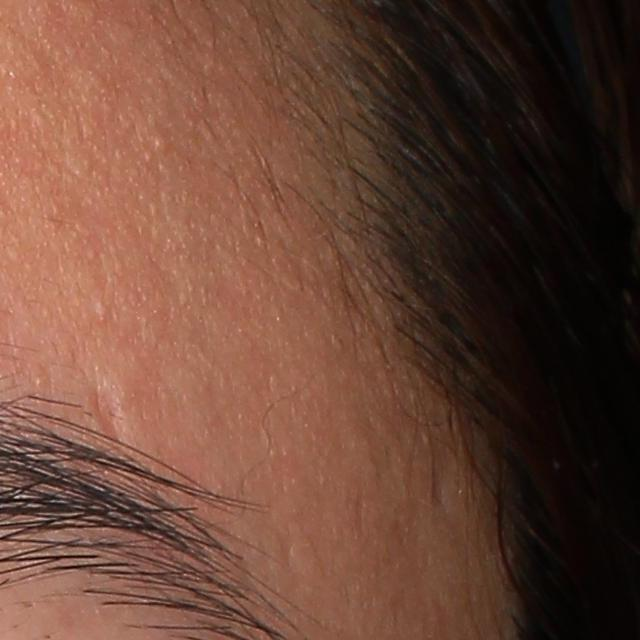atrophic_scar: (86, 377, 134, 467)
comedo: (90, 295, 112, 324), (154, 131, 170, 154)
